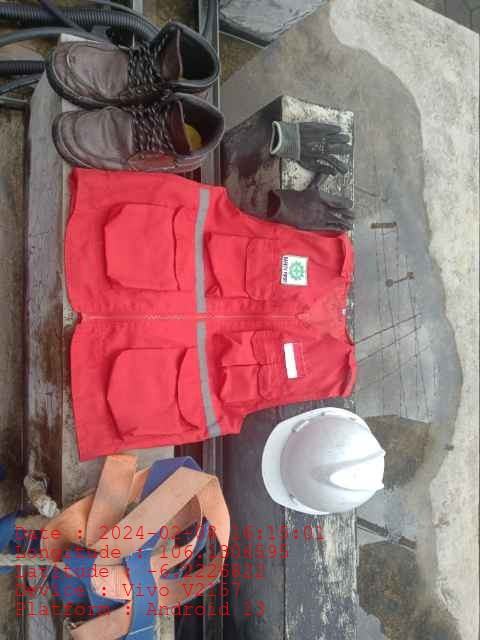HELM: (262, 406, 384, 514)
ROMPI: (68, 210, 349, 413)
SEPATU: (46, 21, 225, 168)
